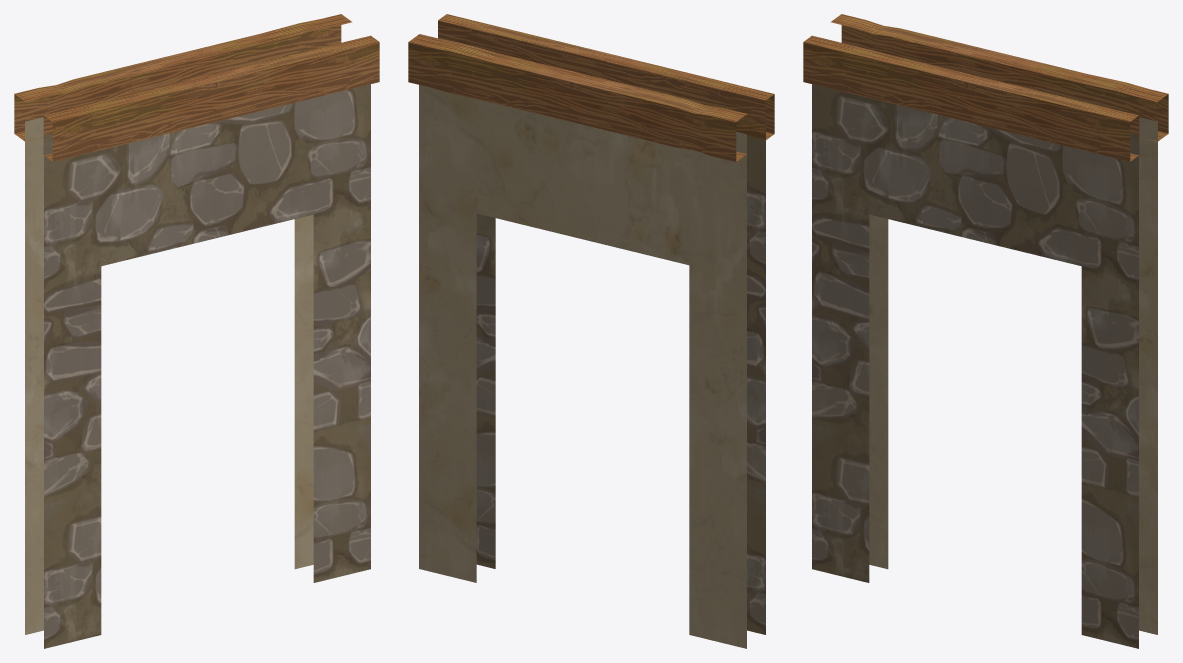
File: Wall_UnevenBrick_Door_Flat.gltf
The picture shows the model from 3 angles, left to right: view 1: azimuth 30°, elevation 25°; view 2: azimuth 150°, elevation 25°; view 3: azimuth 330°, elevation 25°; orthographic projection.
Parts seen in each view (by area): view 1: Wall_UnevenBrick_Door_Flat; view 2: Wall_UnevenBrick_Door_Flat; view 3: Wall_UnevenBrick_Door_Flat.
Boxes of the visible parts, <box> form: Wall_UnevenBrick_Door_Flat: <box>14,14,379,648</box>; Wall_UnevenBrick_Door_Flat: <box>408,14,774,648</box>; Wall_UnevenBrick_Door_Flat: <box>803,14,1168,648</box>.
Bounding box in the file's own units: 2 × 3.12 × 0.4065.
Materials: 3 (3 with a texture image).
